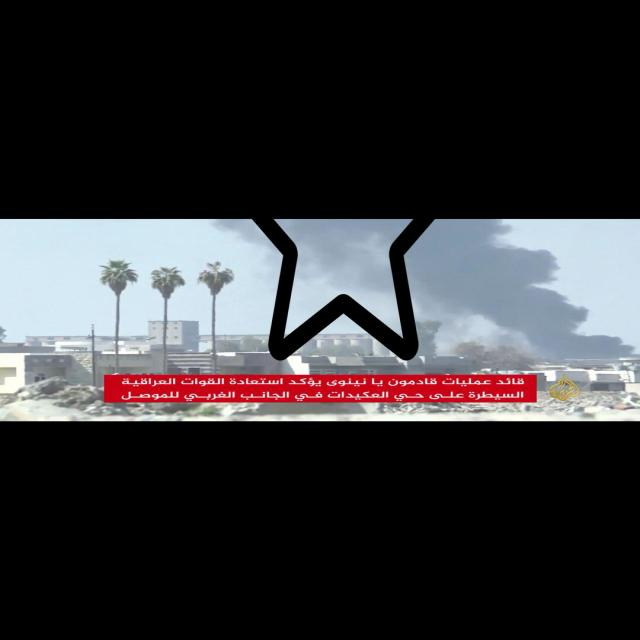forced continuity: (230, 65, 458, 367)
